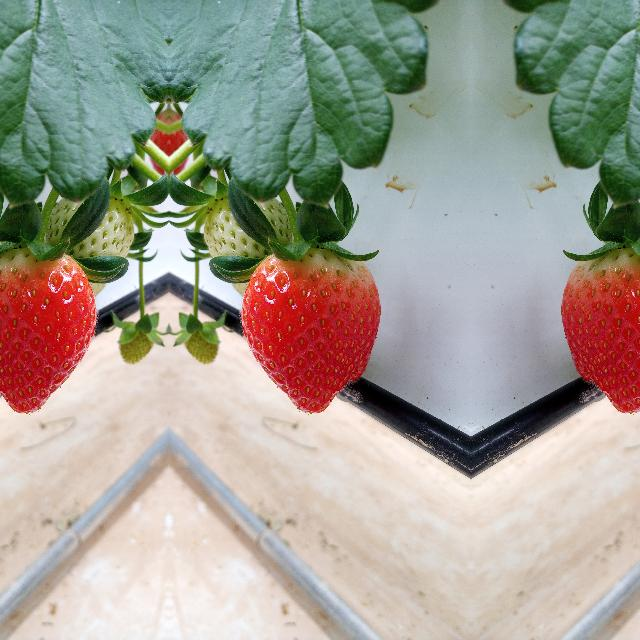Health_100: (239, 246, 381, 416), (0, 246, 97, 416), (560, 246, 640, 416)
